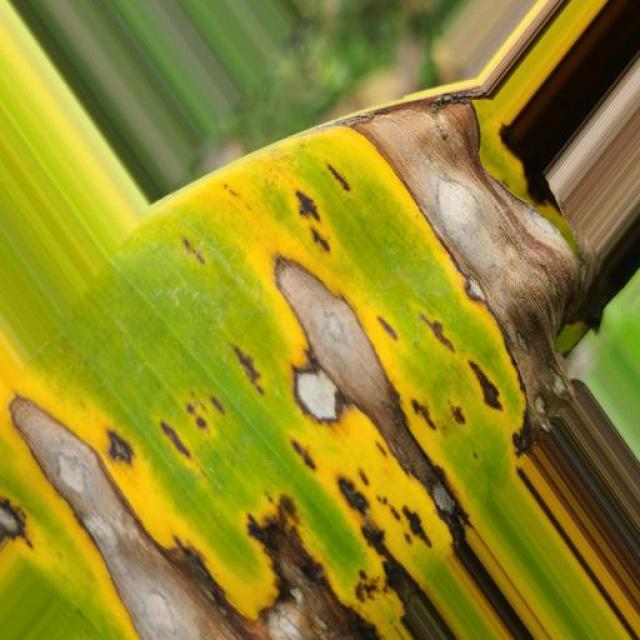Early_rust: (0, 79, 579, 640)
